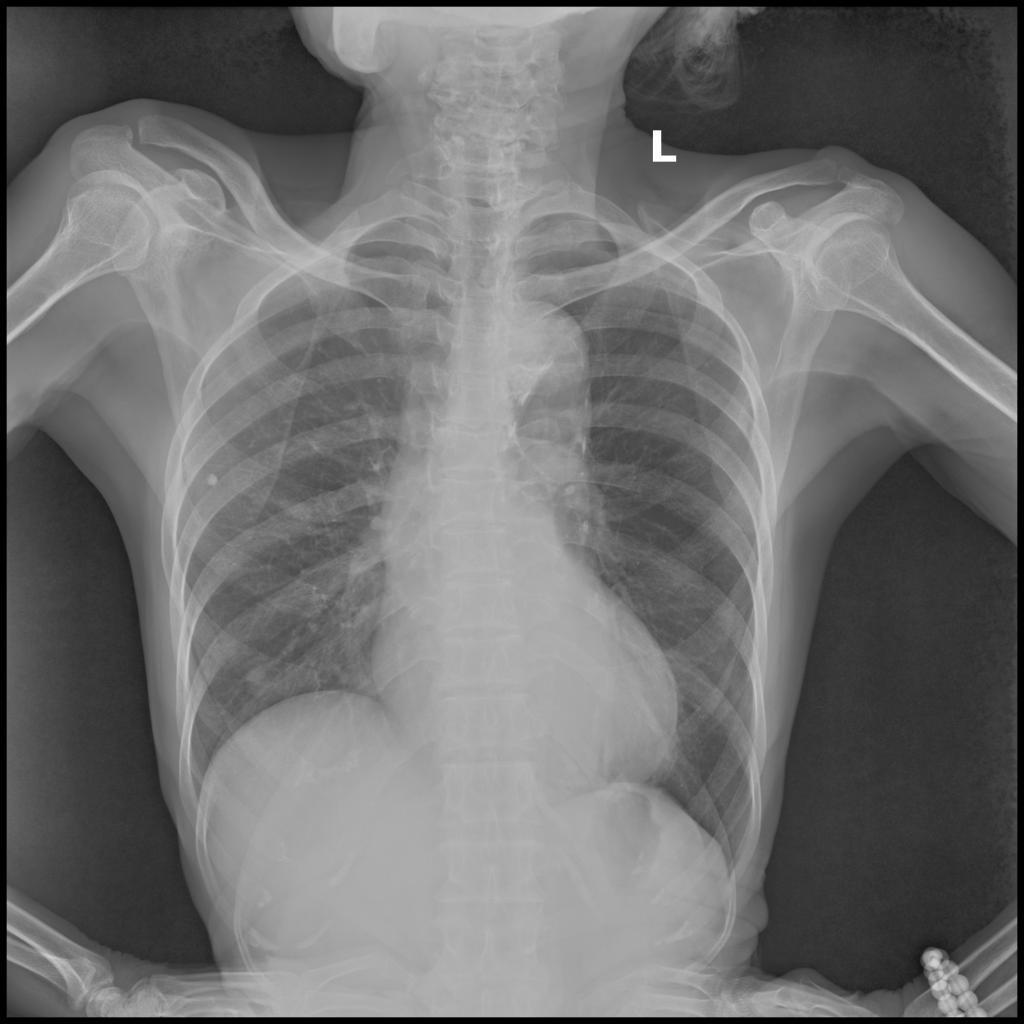Nodule: (245, 664, 271, 697), (205, 473, 217, 487)
